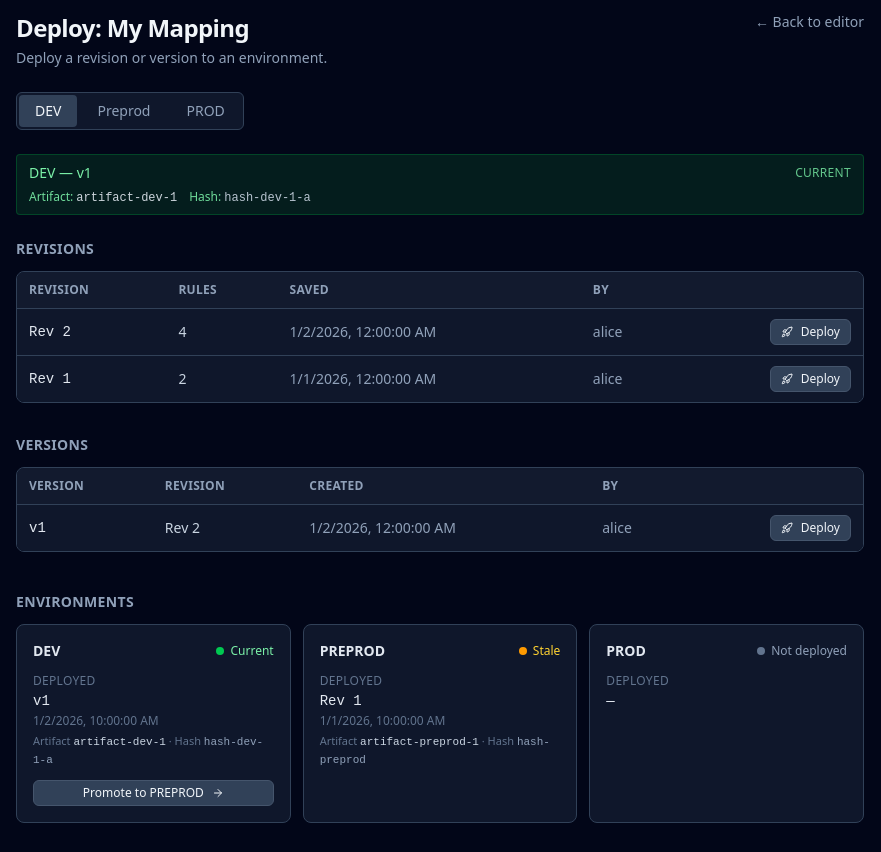
T-06: Promote button visibility (AE-07) › shows schema-specific block messaging for promote guardrail failures
What coordinates should you click on to do the following:
click the button with test id "promote-btn-DEV"
I would click on:
 (153, 793)
Its box is [33,780,274,806].
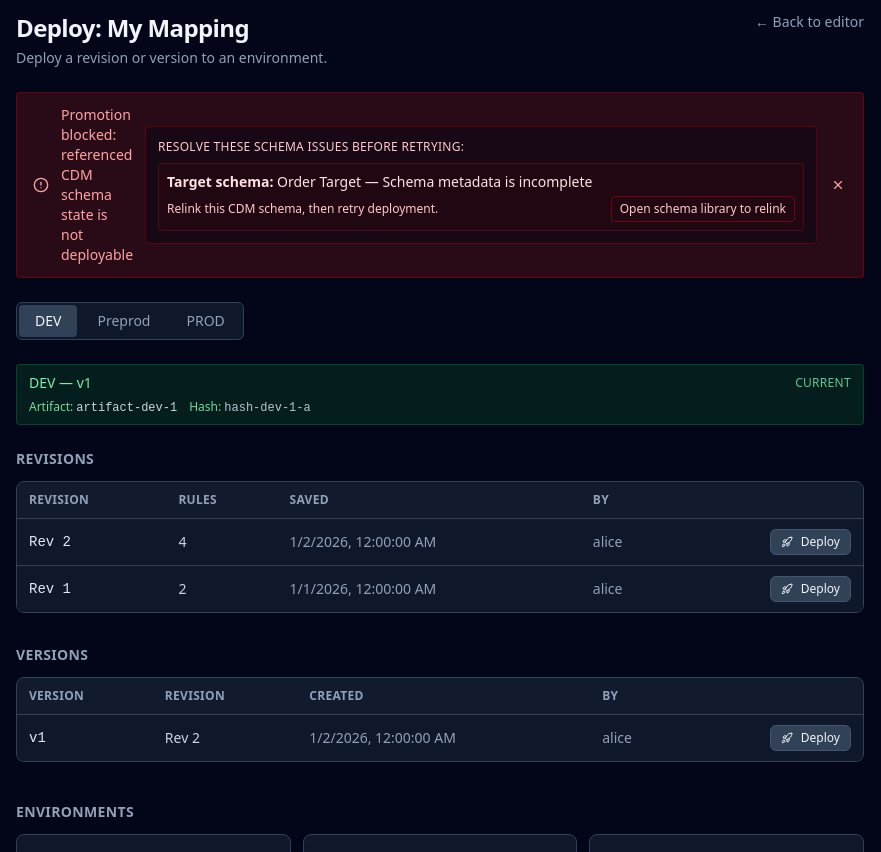
Expected: the element with test id "cdm-block-list" is shown, [145,126,817,244]
Expected: the list item with test id "cdm-block-issue-target-schema-target" shows "Target schema: Order Target — Schema metadata is incomplete", [158,163,804,231]
Expected: the link with test id "cdm-remediation-cta-target-schema-target" reads "Open schema library to relink", [611,196,795,222]
